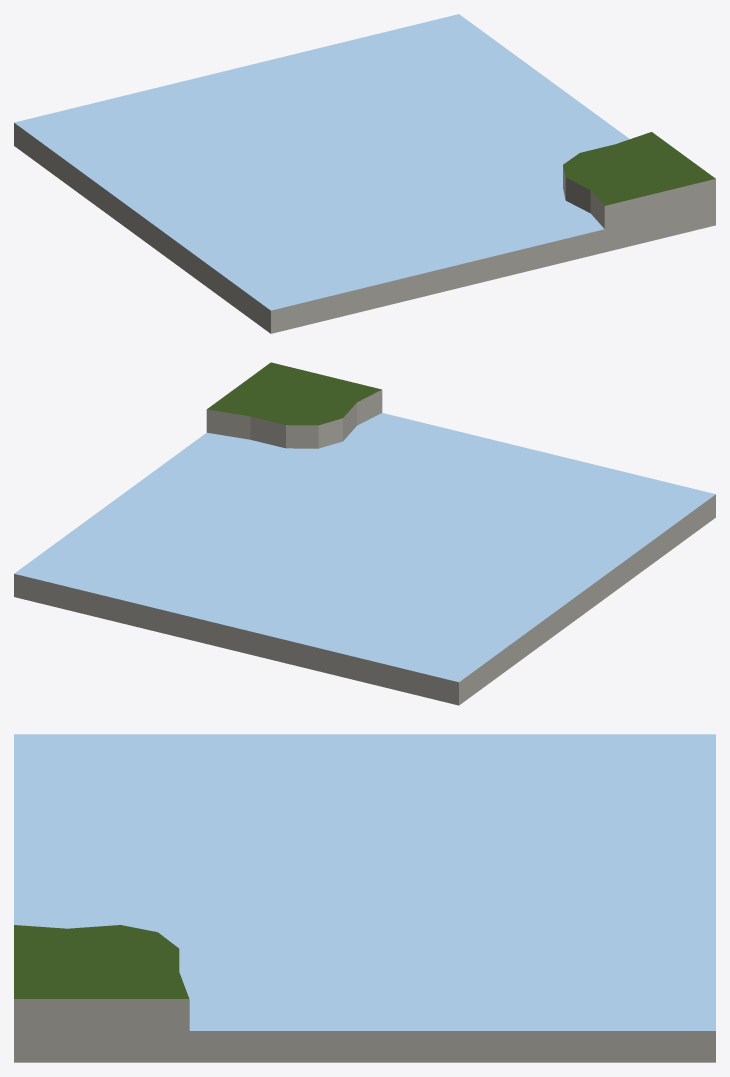
The model's file is Terrain_Modular_Tiles_Grass_Rock_Water_Edge_Corner_Inner_02.fbx.
3 renders of one model, top to bottom at view 1: azimuth 30°, elevation 25°; view 2: azimuth 150°, elevation 25°; view 3: azimuth 270°, elevation 25°, orthographic. The views are drawn at different scales.
Parts seen in each view (by area): view 1: Terrain_Modular_Tiles_Grass_Rock_Water_Edge_Corner_Inner_02; view 2: Terrain_Modular_Tiles_Grass_Rock_Water_Edge_Corner_Inner_02; view 3: Terrain_Modular_Tiles_Grass_Rock_Water_Edge_Corner_Inner_02.
Boxes of the visible parts, x1,y1,x2,y2 form: Terrain_Modular_Tiles_Grass_Rock_Water_Edge_Corner_Inner_02: [14, 14, 715, 333]; Terrain_Modular_Tiles_Grass_Rock_Water_Edge_Corner_Inner_02: [14, 362, 715, 705]; Terrain_Modular_Tiles_Grass_Rock_Water_Edge_Corner_Inner_02: [14, 734, 715, 1062].
Bounding box in the file's own units: 118 × 11.81 × 118.
